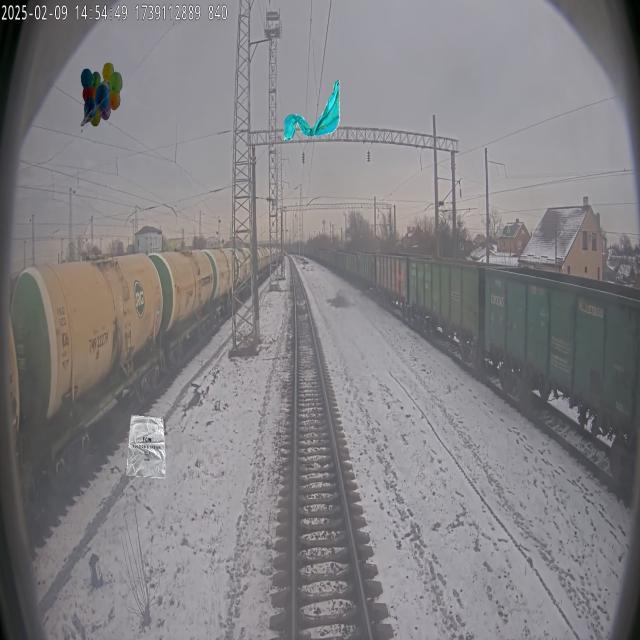balloon: (81, 62, 122, 126)
floating object: (284, 79, 339, 143)
plastic bag: (115, 395, 181, 500)
